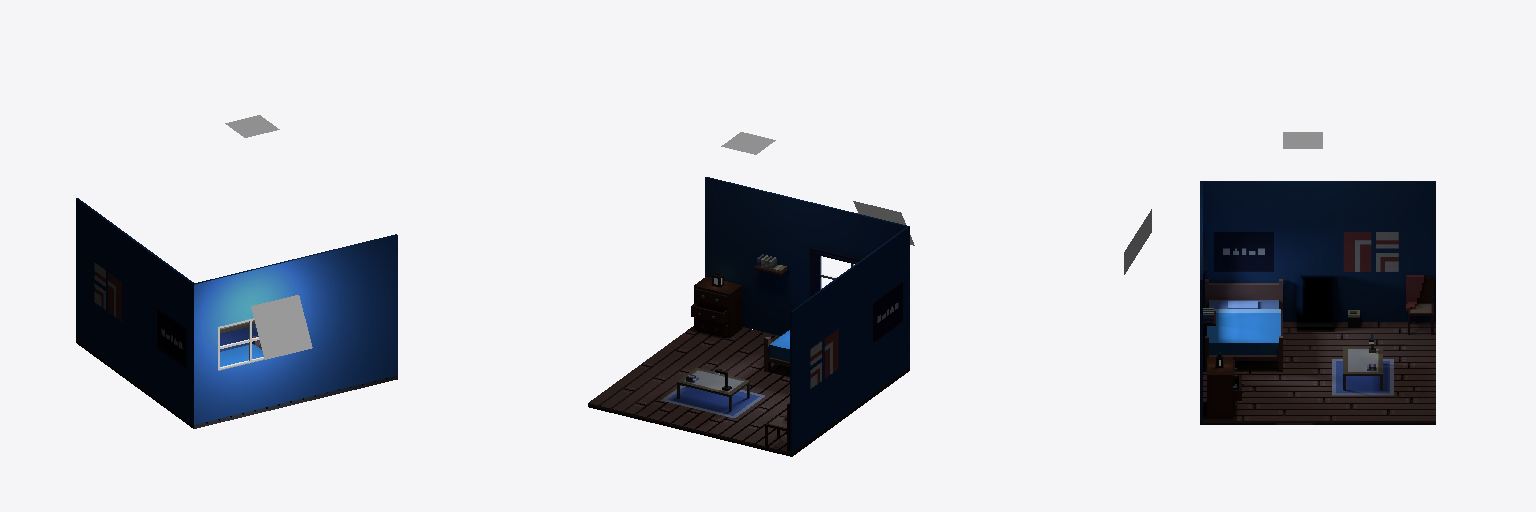
3 renders of one model, left to right at view 1: azimuth 30°, elevation 25°; view 2: azimuth 150°, elevation 25°; view 3: azimuth 270°, elevation 25°, orthographic.
Visible parts, largest first — view 1: bedroom.merged_Plane-tex, Plane, Plane.001; view 2: bedroom.merged_Plane-tex, Plane.001, Plane; view 3: bedroom.merged_Plane-tex, Plane.001, Plane.
Part boxes in pixels (x1,y1,x2,y2): bedroom.merged_Plane-tex: (76, 198, 397, 428); Plane: (251, 295, 312, 359); Plane.001: (225, 115, 279, 137); bedroom.merged_Plane-tex: (588, 177, 909, 456); Plane.001: (721, 132, 775, 154); Plane: (853, 201, 914, 245); bedroom.merged_Plane-tex: (1200, 181, 1435, 424); Plane.001: (1283, 132, 1322, 148); Plane: (1124, 209, 1151, 274).
Bounding box in the file's own units: 102 × 114 × 135.
Materials: 5 (1 with a texture image).